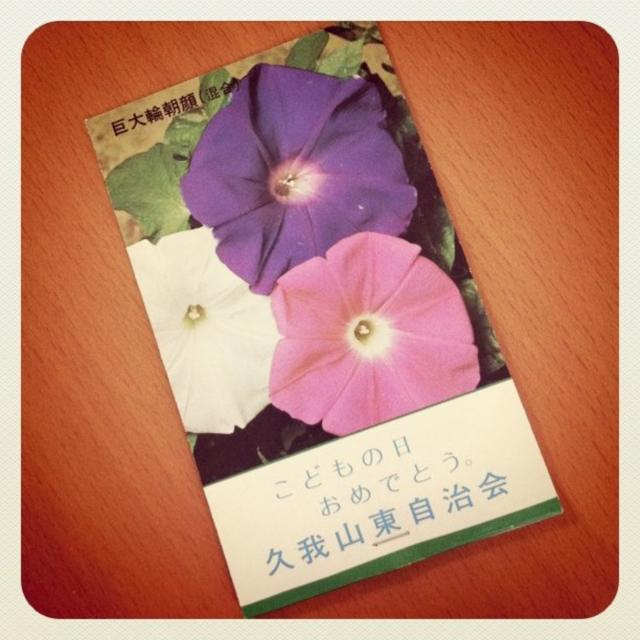Flower: (182, 67, 426, 296), (272, 232, 488, 440), (131, 226, 281, 439)
